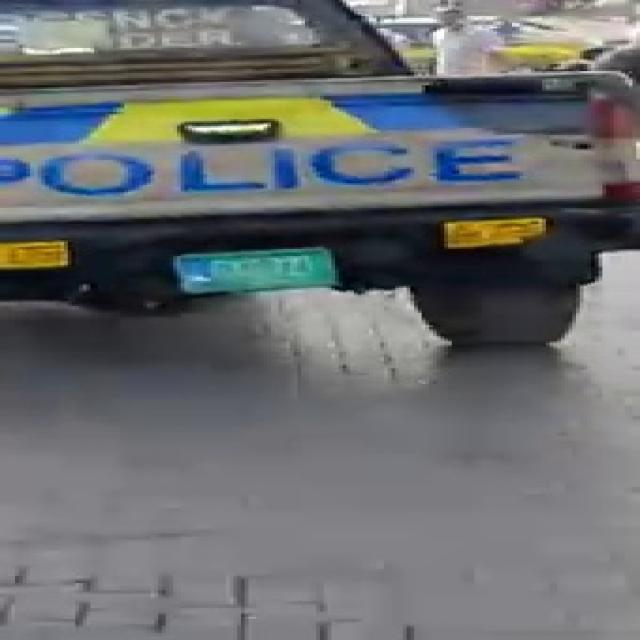police: (0, 0, 592, 355)
